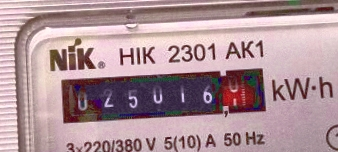0: (150, 81, 165, 105), (74, 89, 88, 112), (226, 73, 239, 93)
1: (175, 79, 187, 105), (229, 96, 237, 107)
2: (100, 85, 114, 109)
5: (125, 87, 137, 108)
6: (199, 81, 213, 107)
screen: (50, 58, 275, 130)
